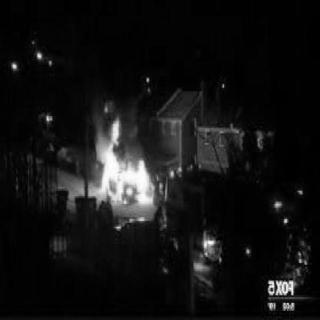Fire: (97, 114, 156, 202)
other: (36, 47, 44, 61)
